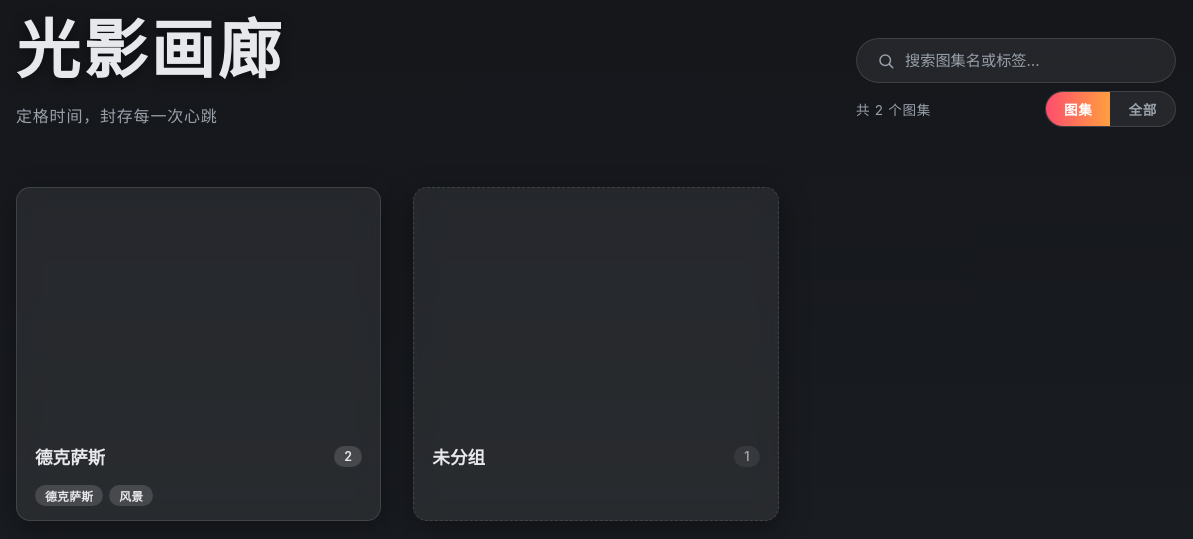
Test case: GalleryView 全部模式(masonry) › 标签搜索过滤瀑布流
The width and height of the screenshot is (1193, 539).
Click the button "全部": coordinates (1143, 109) [1110,92,1175,126]
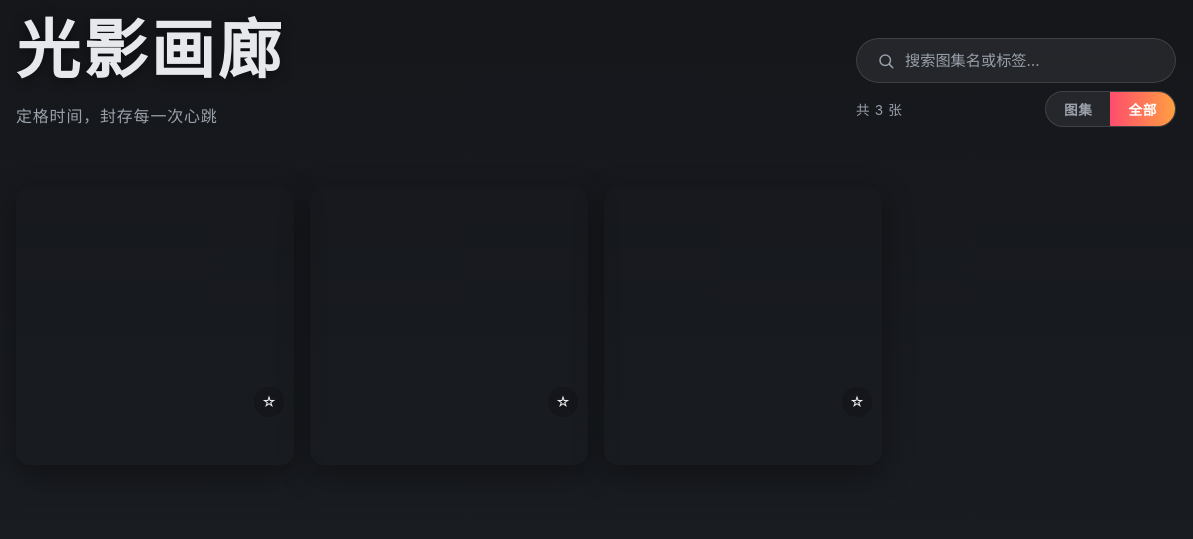
In the field with class "search-input": coordinates (1030, 60) [905,51,1155,70], type "风景"
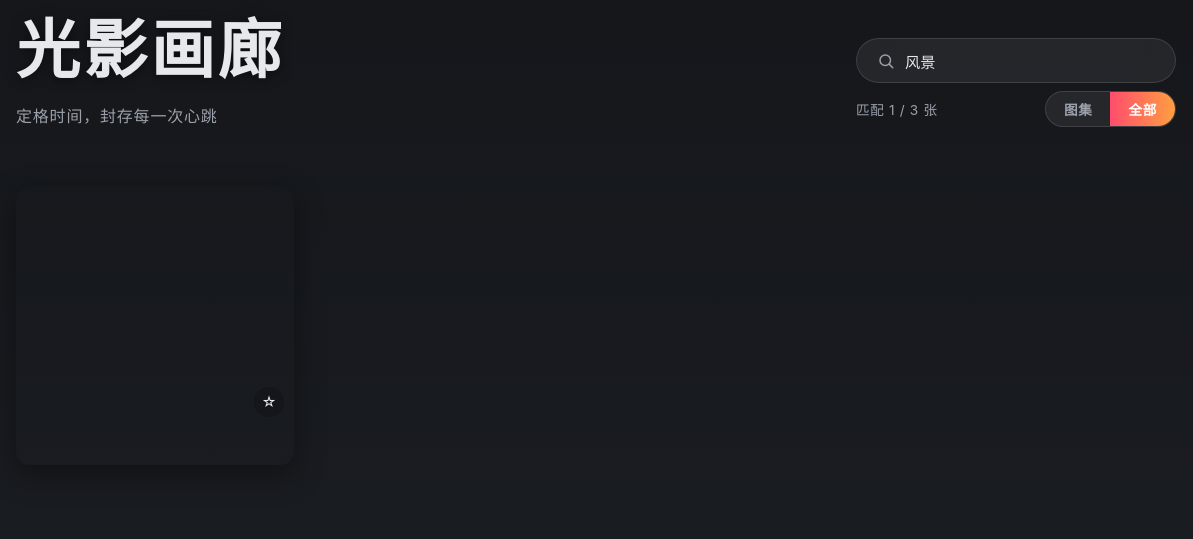
Check: the number of elements with class "masonry-item" is 1, box [16,187,294,465]
Check: the text "匹配 1 / 3 张" is shown, box [856,99,950,119]
